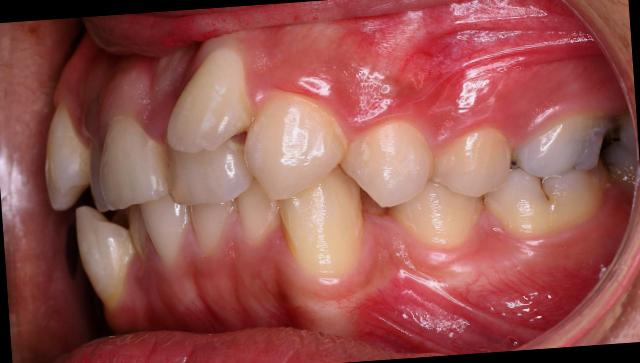canine class II full class: (238, 78, 389, 285)
molar class III 1/4: (473, 106, 622, 246)
